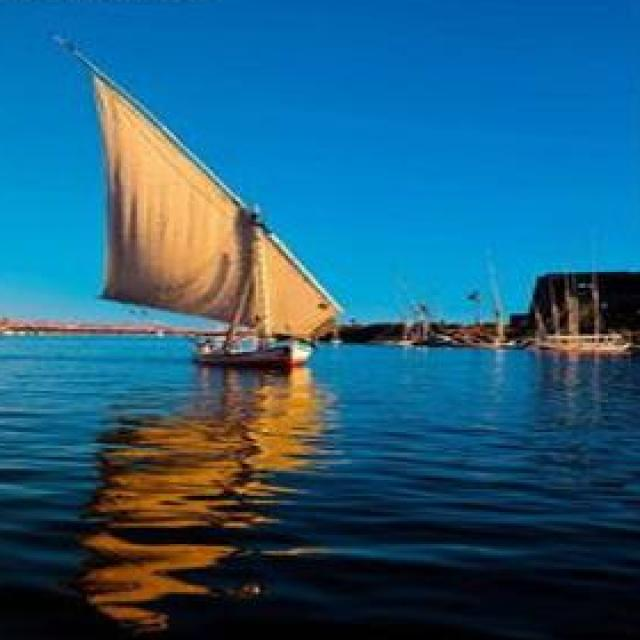sailboat: (75, 29, 381, 370)
